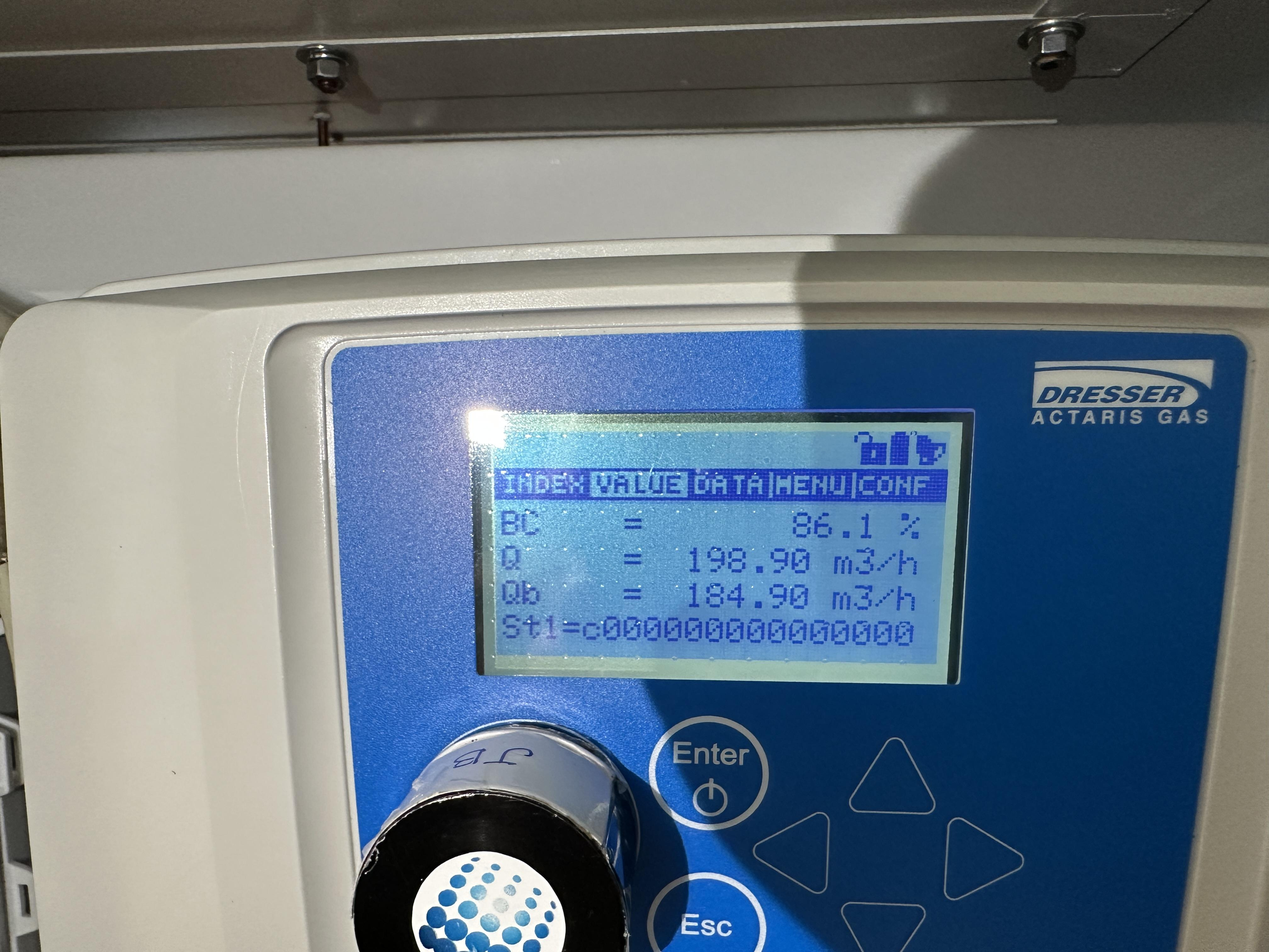digital_screen: (482, 423, 964, 685)
